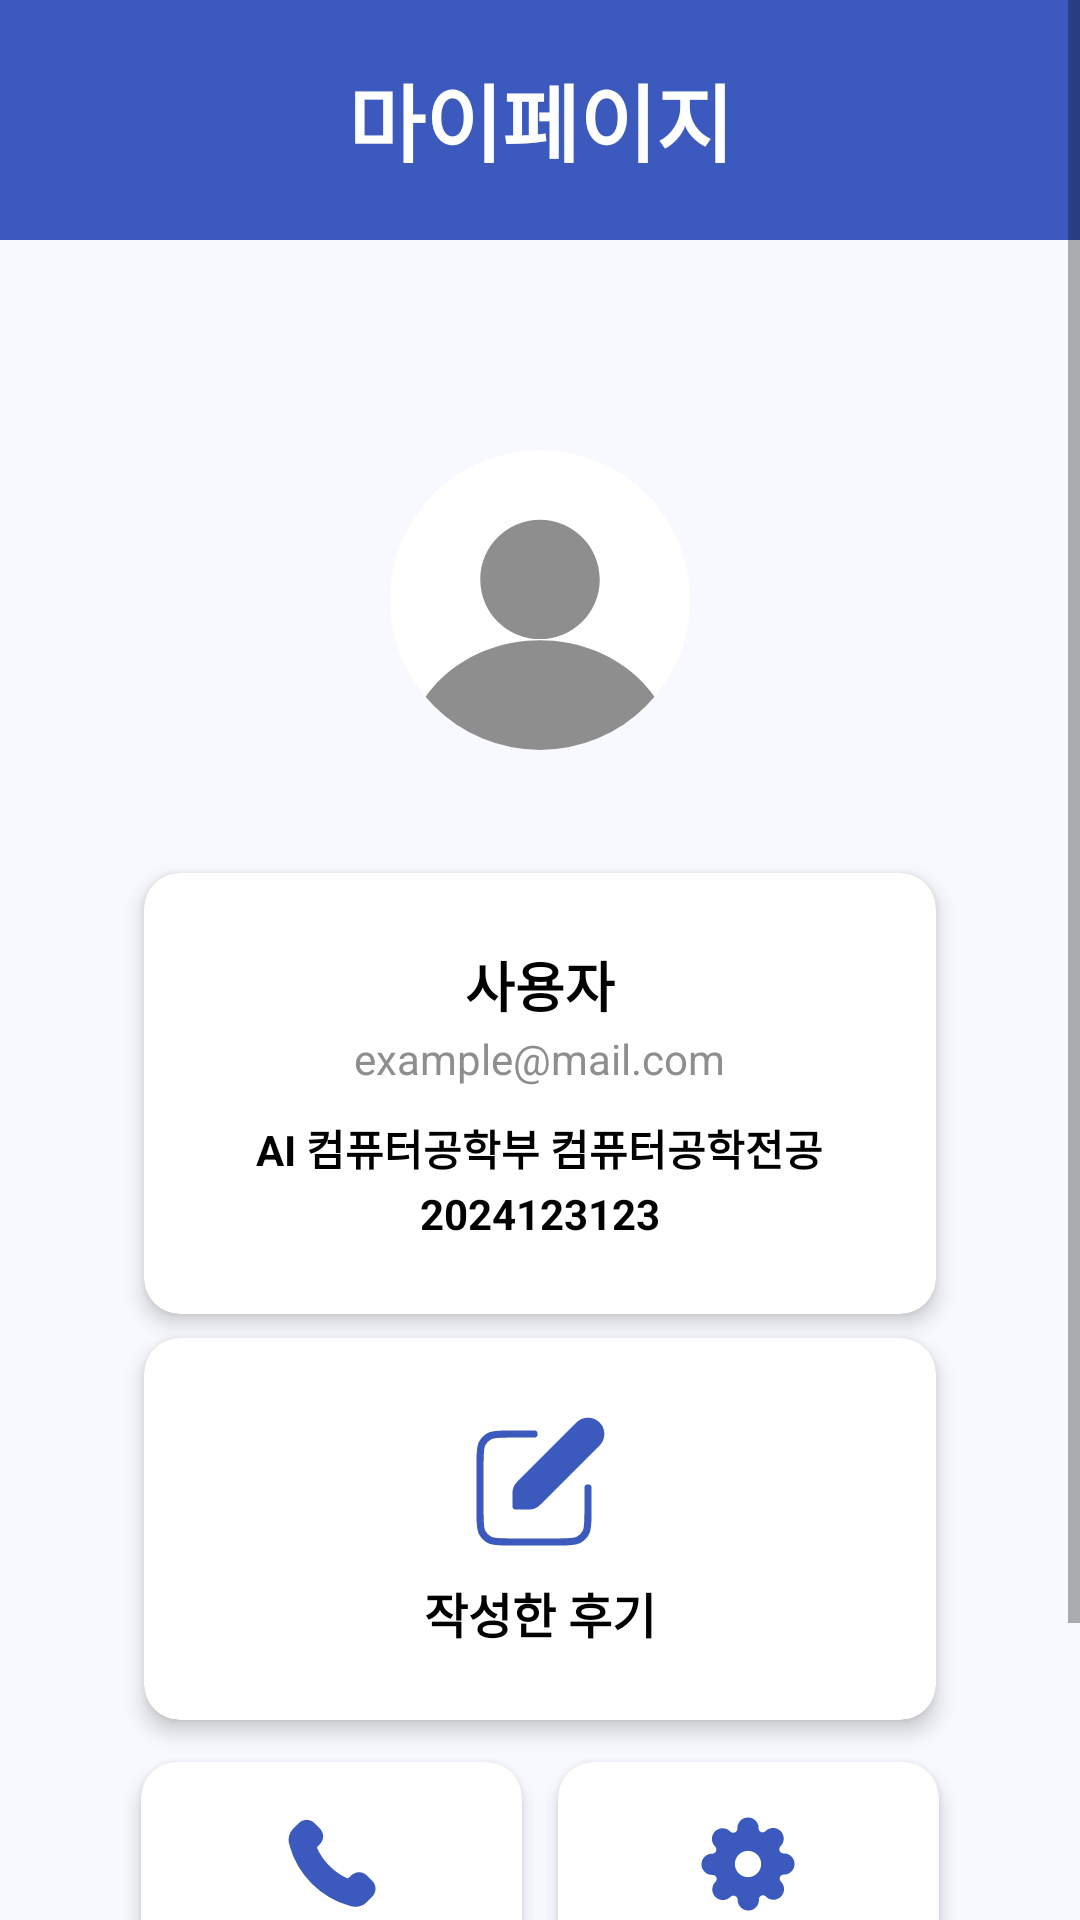

Icons on this 1080w x 1920h Android screen, each with the point to tap as (x,y):
edit: (540,1481)
phone: (332,1863)
settings: (748,1864)
